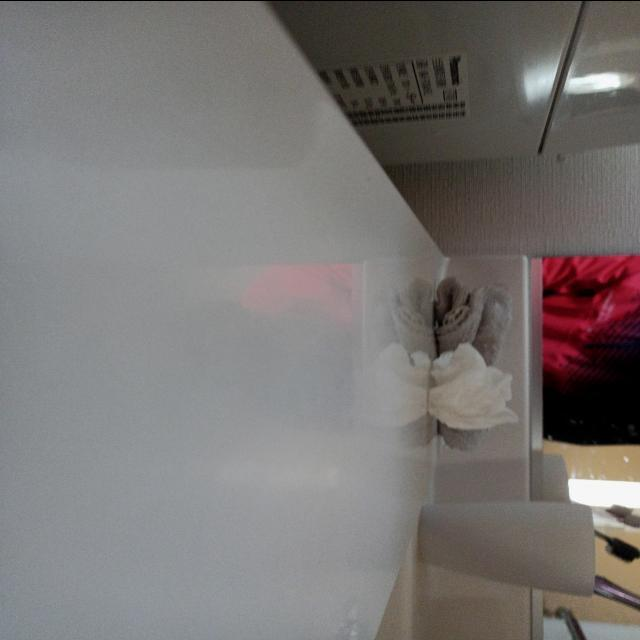Paper: (424, 336, 520, 439)
